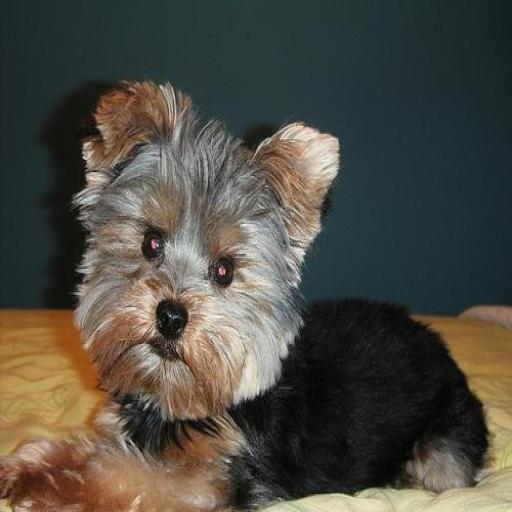dog_face: (78, 88, 333, 414)
